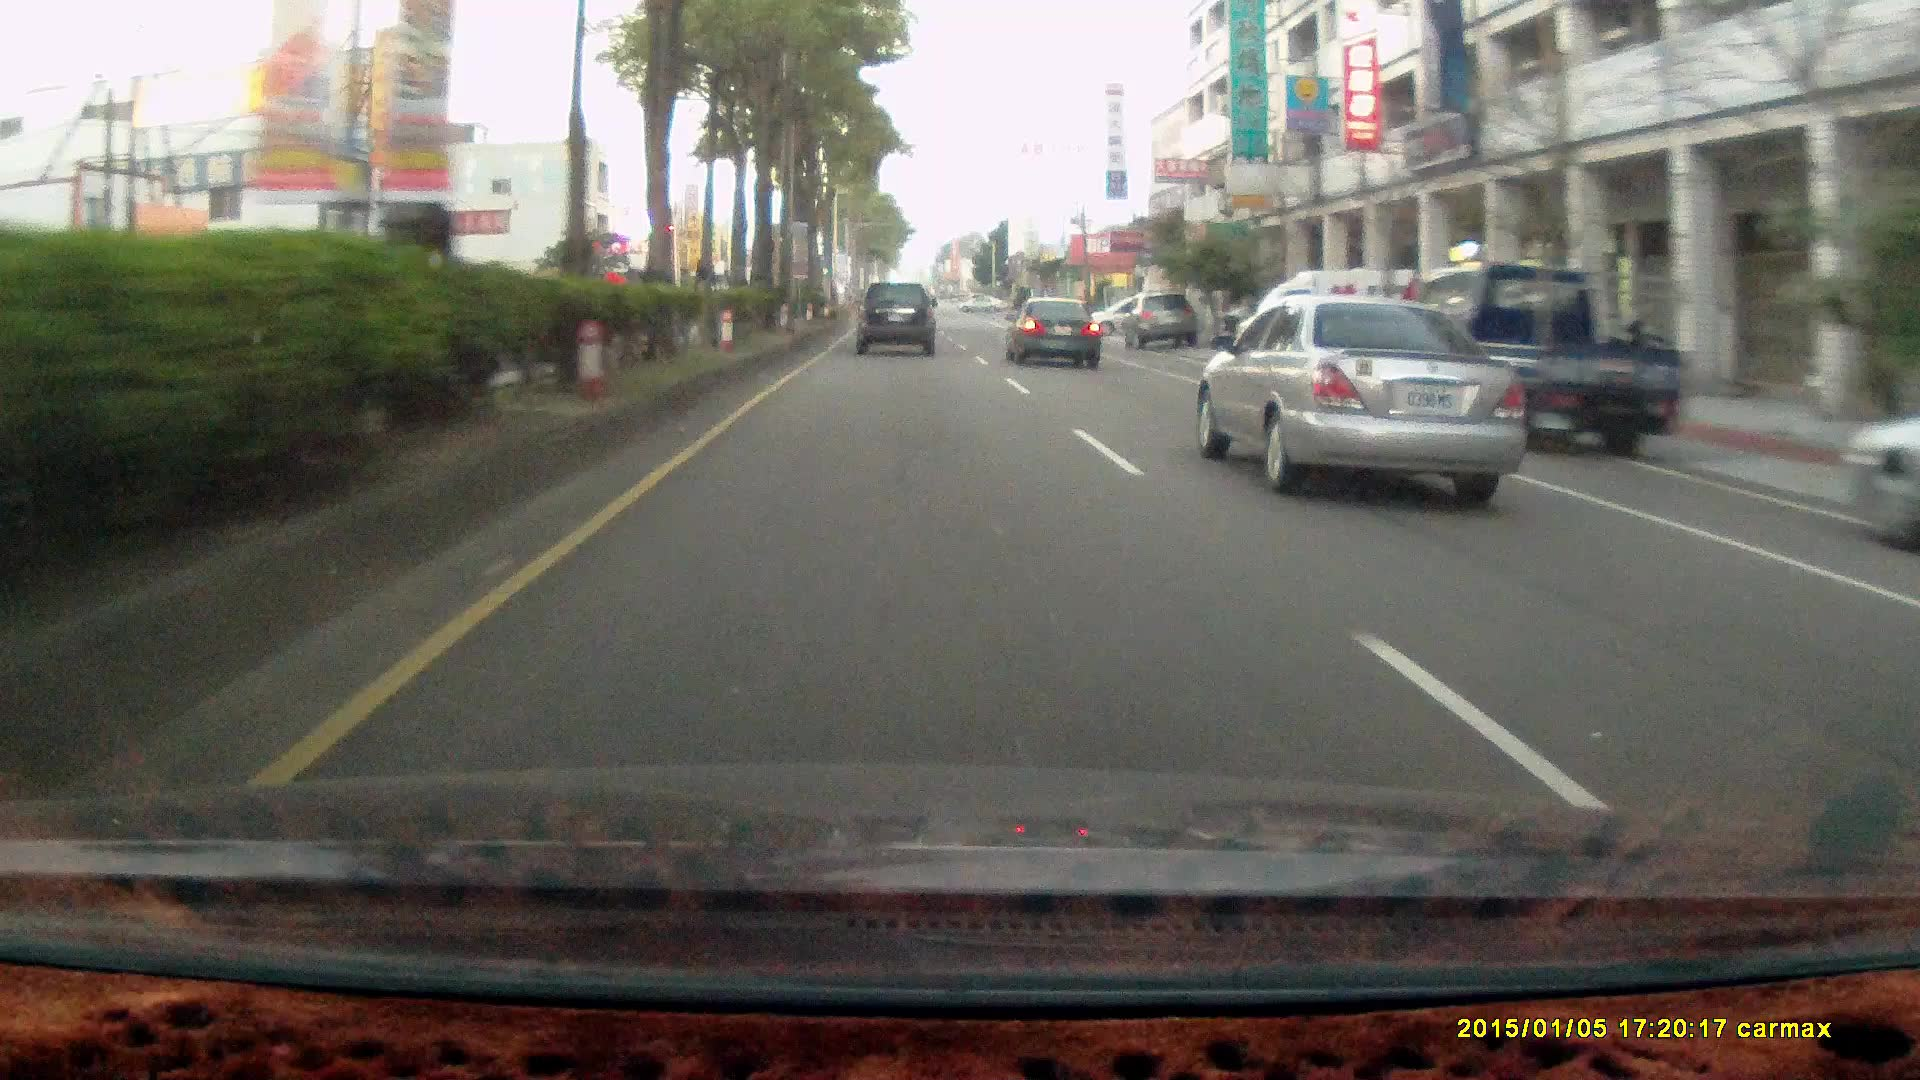vehicle: (1200, 289, 1528, 496), (1399, 264, 1687, 458), (1422, 262, 1695, 452), (1238, 266, 1425, 382), (1837, 402, 1920, 549), (1002, 297, 1105, 371), (856, 284, 943, 361), (1004, 295, 1098, 367), (855, 280, 934, 353), (1126, 291, 1199, 349)
